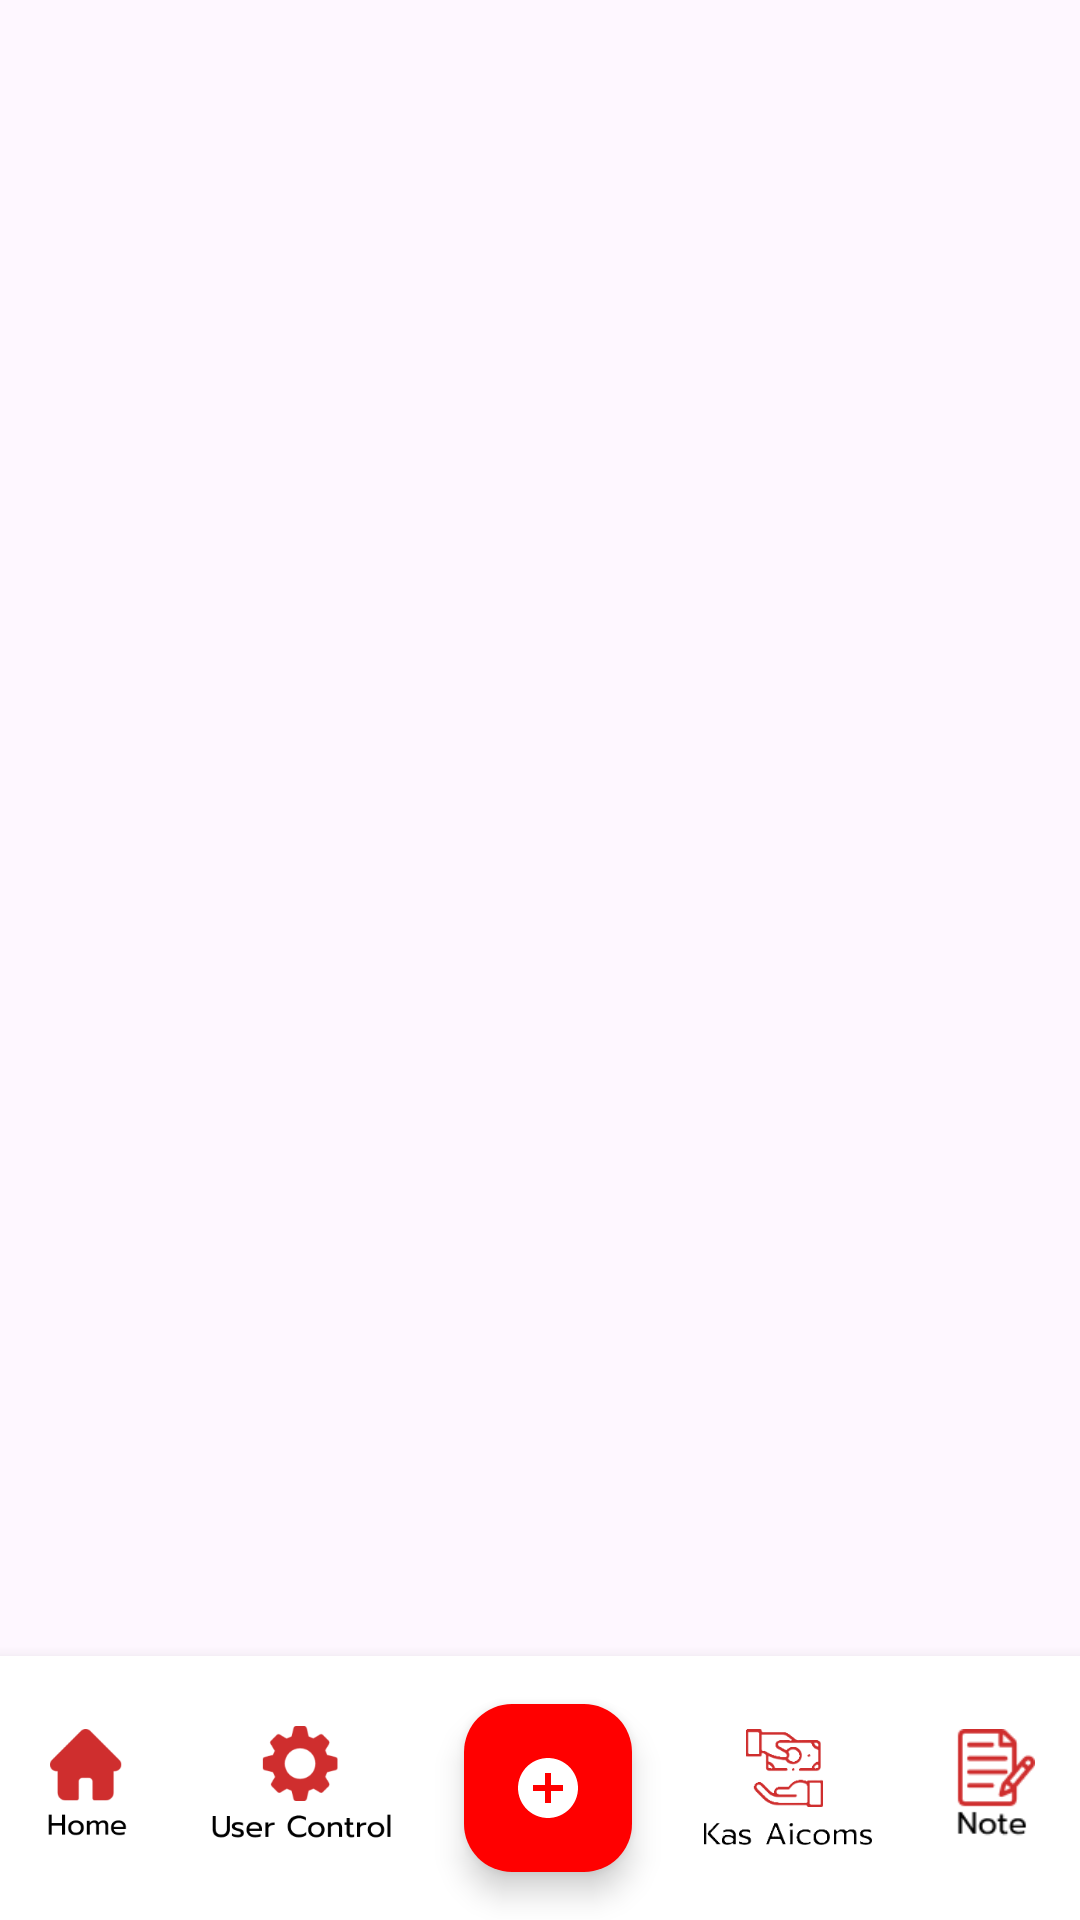

Where icons sit on this 1080 x 1920 app screen, as [x1,y1,x2,y2]:
add circle: [464,1704,632,1872]
